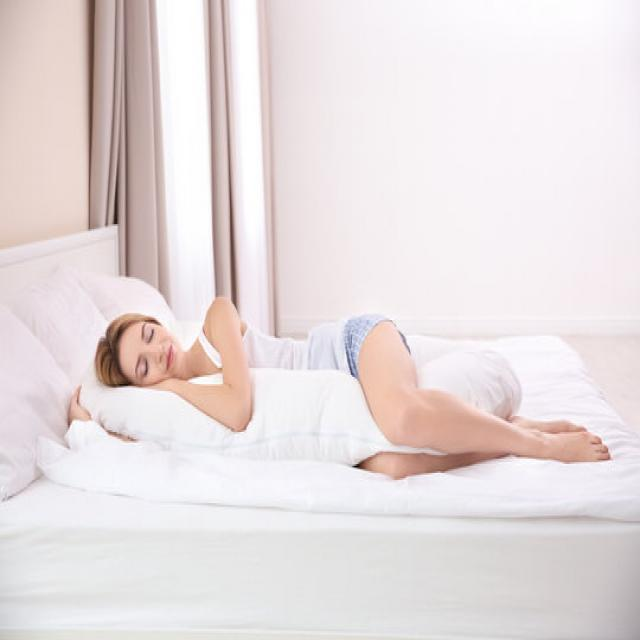people: (58, 273, 632, 519)
